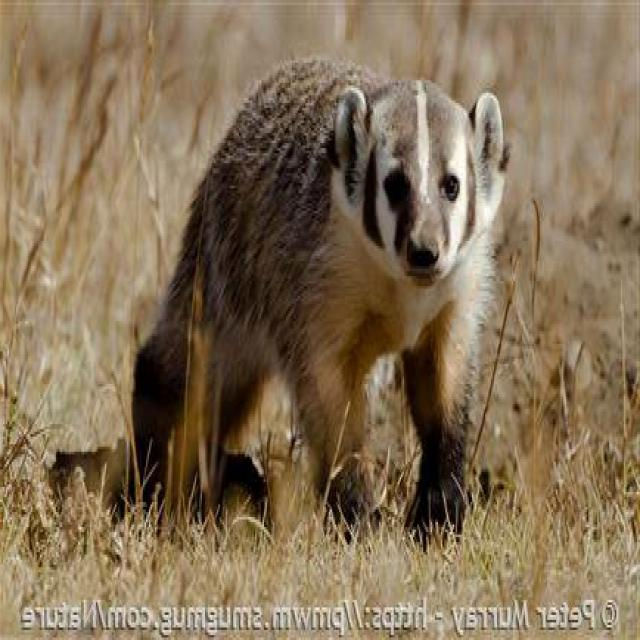badger: (131, 58, 510, 537)
